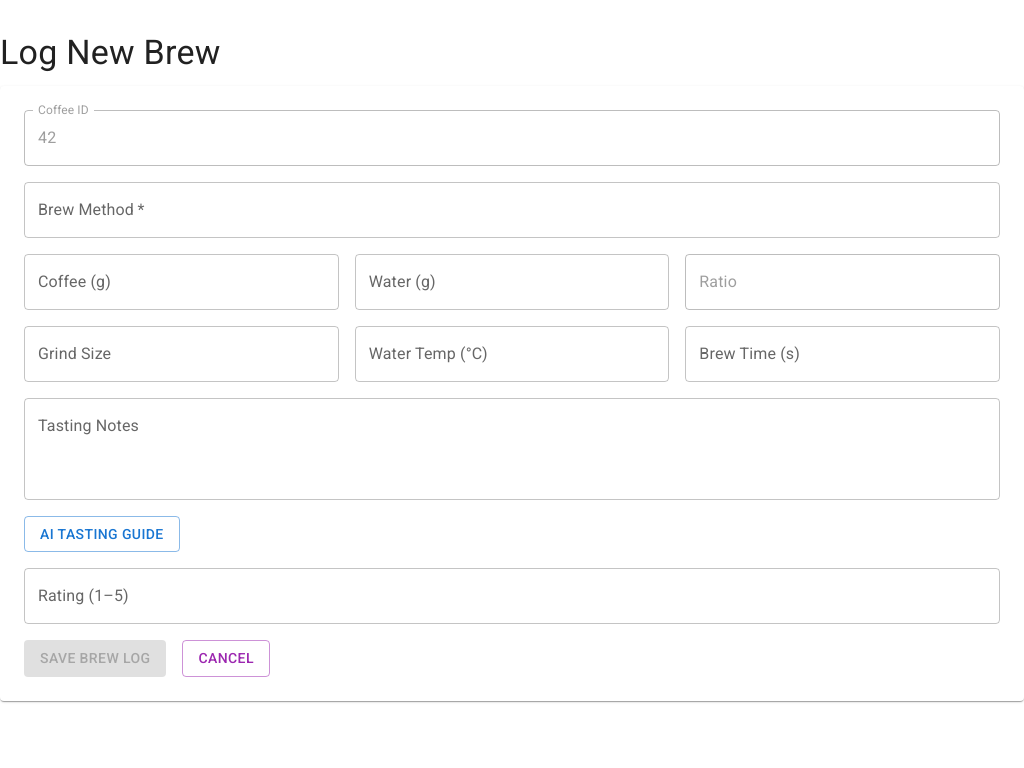
Test: BrewLogForm › opens recommendation dialog, submits goal, and renders result
The width and height of the screenshot is (1024, 768).
Type "V60" into the field with test id "brew-method" at point(512, 210), box [24,182,1000,238]
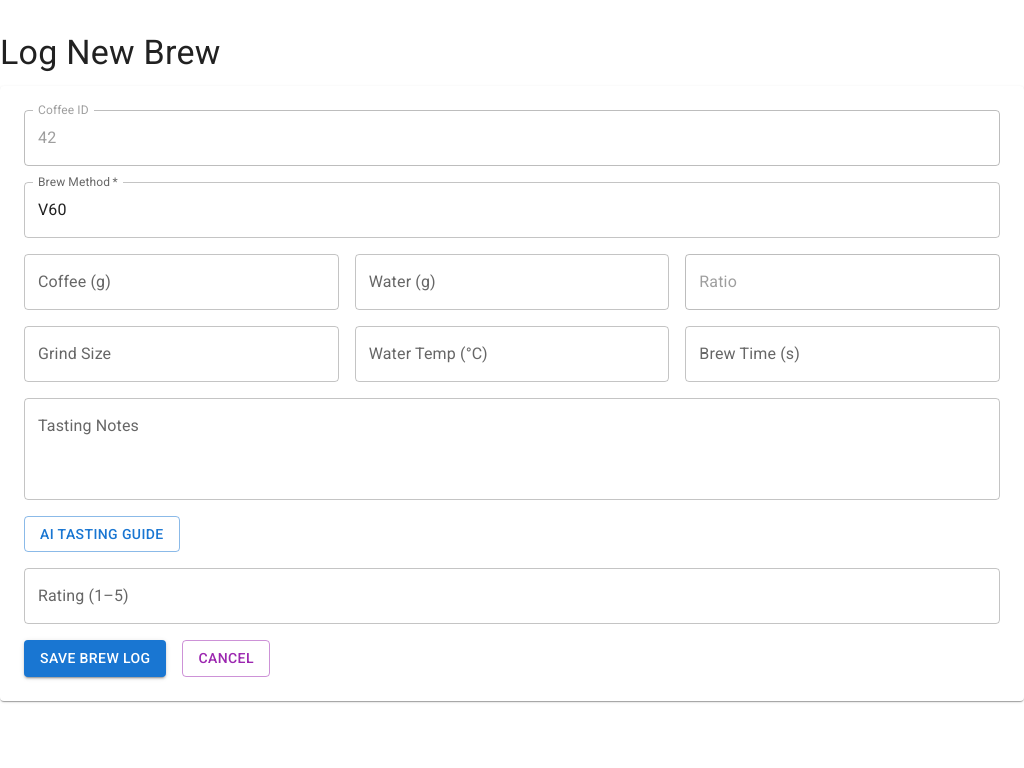
Click the button with test id "submit-brewlog" at point(95, 659), box [24,640,166,677]
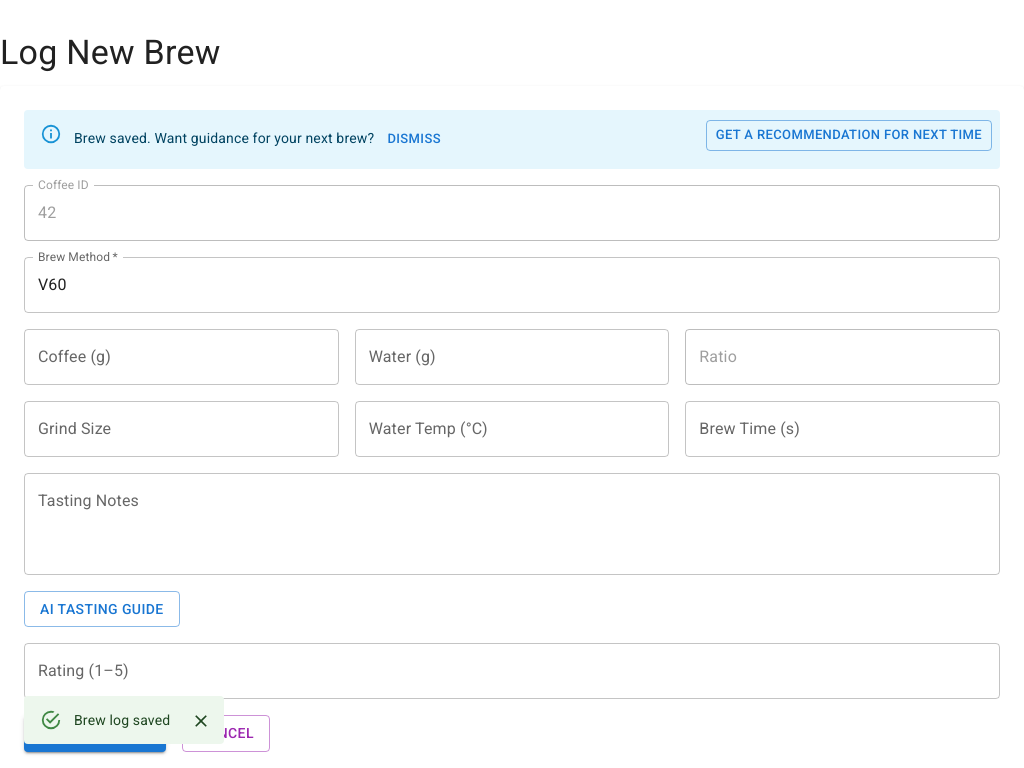
Note: Open dialog from CTA
Click the button "Get a recommendation for next time" at point(849, 135), box [706,120,992,151]
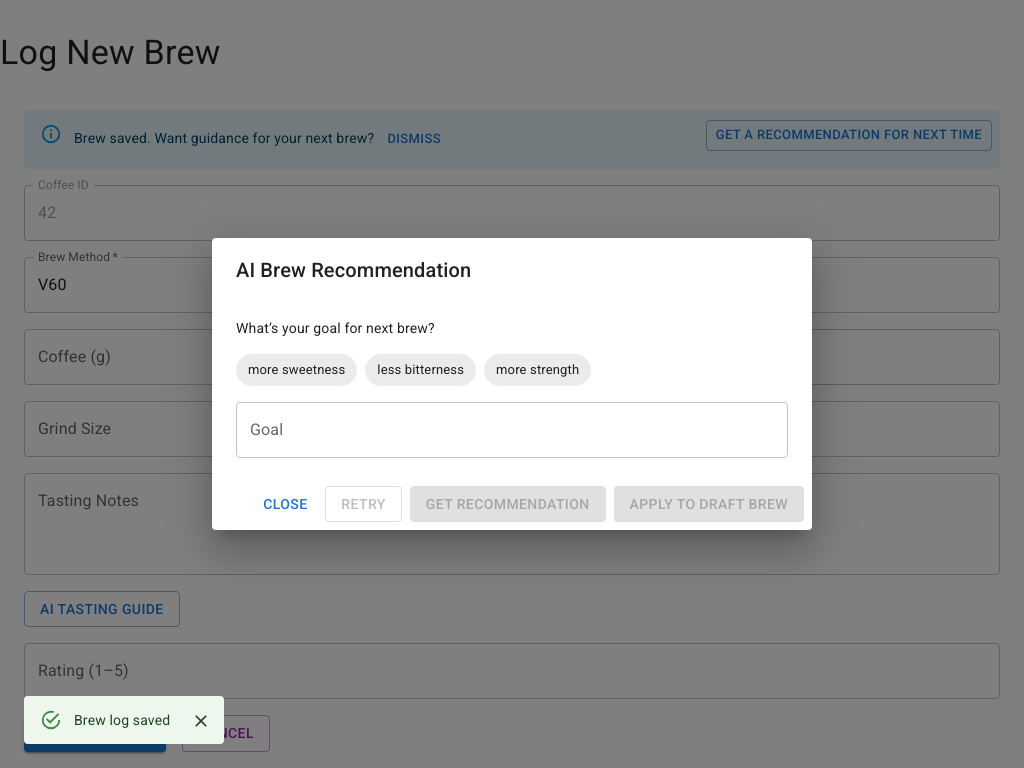
Now the element with test id "reco-dialog" is shown
Type "more sweetness" into the field with test id "reco-goal" at point(512, 430), box [236,402,788,458]
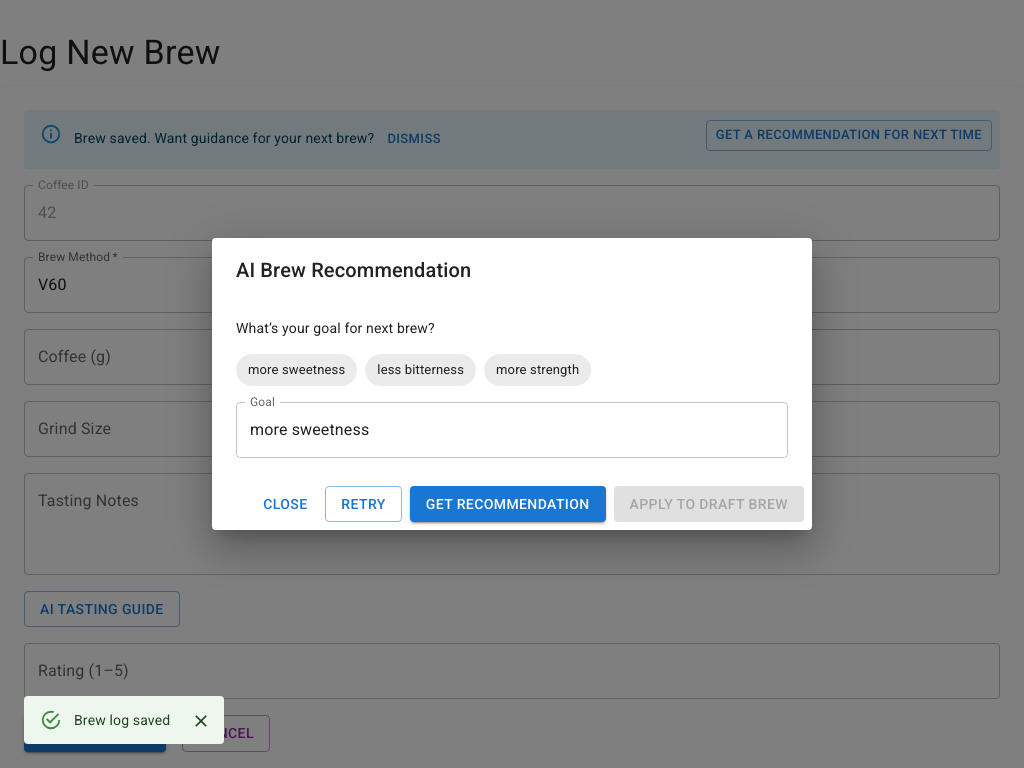
Click the button with test id "reco-submit" at point(508, 504), box [410,486,606,522]
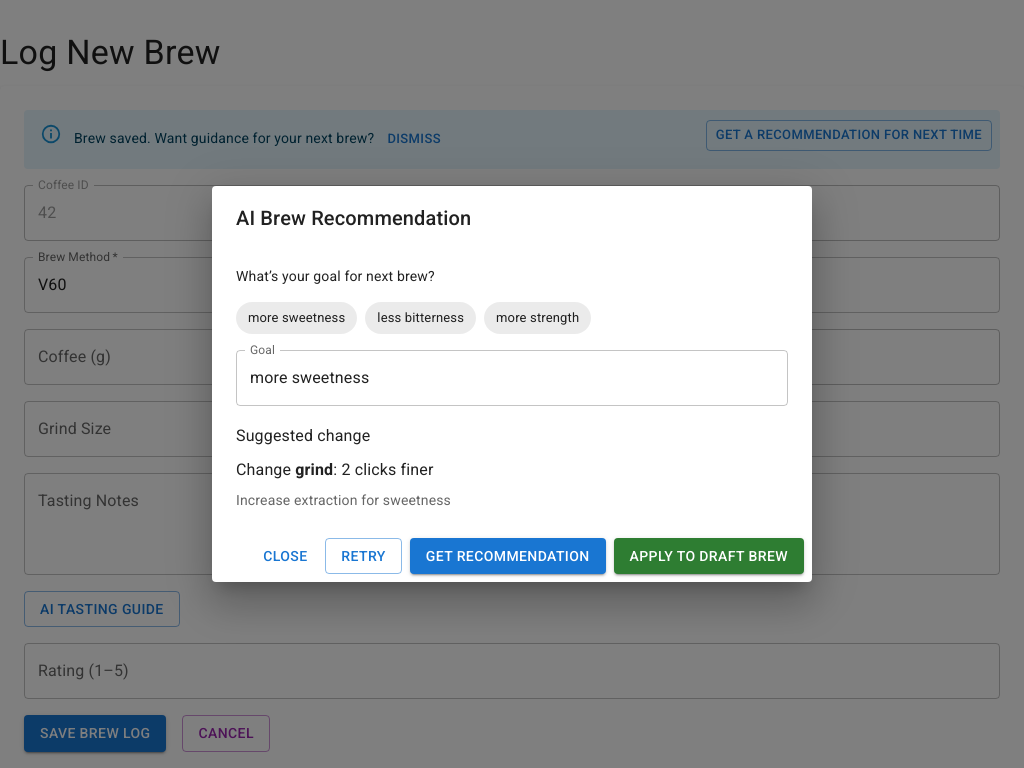
Now the element with test id "reco-result" is shown, box [236,426,451,508]
Now the text "Change grind: 2 clicks finer" is shown, box [236,460,434,479]
